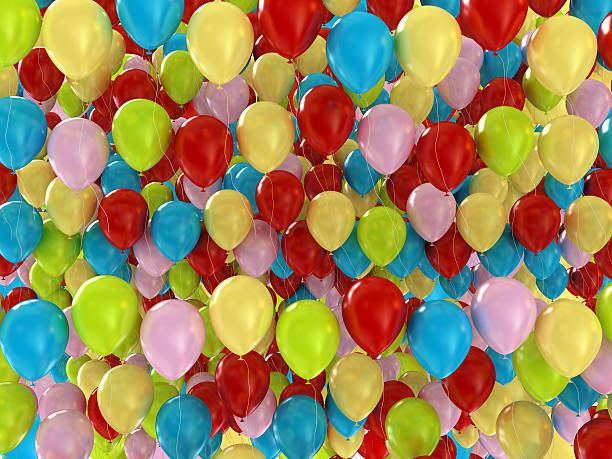Balloon: (394, 7, 462, 89), (1, 299, 69, 381), (187, 2, 253, 86), (68, 275, 139, 353), (327, 13, 393, 94), (137, 299, 204, 378), (208, 276, 276, 353), (44, 1, 111, 79), (406, 300, 473, 378), (342, 276, 406, 357), (537, 299, 602, 378), (530, 18, 594, 96), (277, 299, 339, 379), (471, 278, 535, 355), (48, 118, 108, 193), (538, 116, 599, 186), (174, 115, 233, 187), (111, 99, 172, 168), (357, 103, 416, 174), (474, 112, 535, 179), (96, 365, 152, 436), (236, 102, 294, 170), (298, 85, 354, 155), (418, 122, 475, 189), (329, 354, 385, 422), (259, 1, 323, 59), (156, 394, 213, 459), (215, 350, 270, 417), (273, 395, 326, 459), (462, 1, 527, 53), (496, 401, 554, 459), (385, 398, 440, 459), (1, 97, 45, 170), (117, 1, 182, 49), (406, 183, 458, 241), (100, 188, 148, 250), (150, 201, 200, 260), (357, 207, 407, 266), (458, 193, 508, 251), (511, 193, 560, 251), (307, 192, 356, 250), (37, 409, 93, 459), (256, 170, 304, 228), (205, 191, 253, 248), (1, 382, 38, 455), (1, 1, 40, 70), (1, 201, 43, 264), (565, 196, 612, 251), (19, 48, 60, 101), (160, 50, 200, 104), (574, 416, 612, 459), (168, 261, 198, 297)
